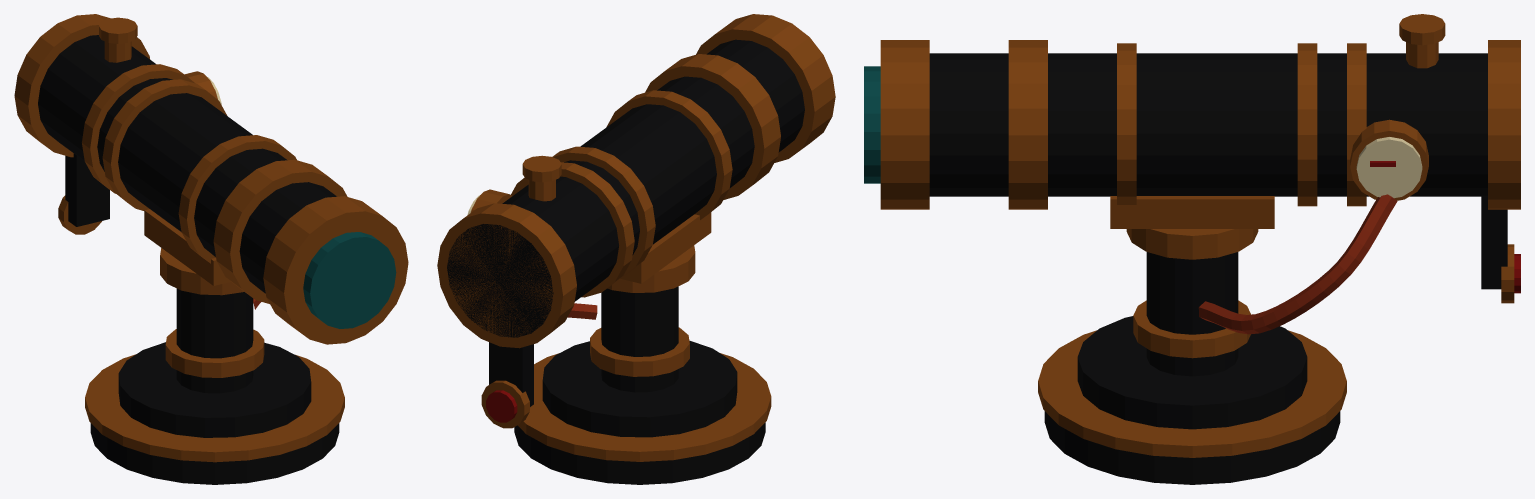
Rendered from laser.glb.
3 renders of one model, left to right at view 1: azimuth 30°, elevation 25°; view 2: azimuth 150°, elevation 25°; view 3: azimuth 270°, elevation 25°, orthographic. The views are drawn at different scales.
Visible parts, largest first — view 1: iron, brass, lens; view 2: iron, brass, red; view 3: iron, brass, copper, dial, lens.
Part boxes in pixels (bbox=[...]): iron: bbox=[38, 35, 339, 484]; brass: bbox=[14, 14, 408, 462]; lens: bbox=[303, 232, 396, 328]; iron: bbox=[447, 39, 804, 484]; brass: bbox=[437, 14, 835, 461]; red: bbox=[486, 390, 517, 422]; iron: bbox=[929, 53, 1507, 484]; brass: bbox=[880, 14, 1520, 457]; copper: bbox=[1198, 194, 1397, 334]; dial: bbox=[1356, 137, 1422, 198]; lens: bbox=[864, 66, 880, 183].
Size of the model in its own units: 0.094 by 0.134 by 0.2.
